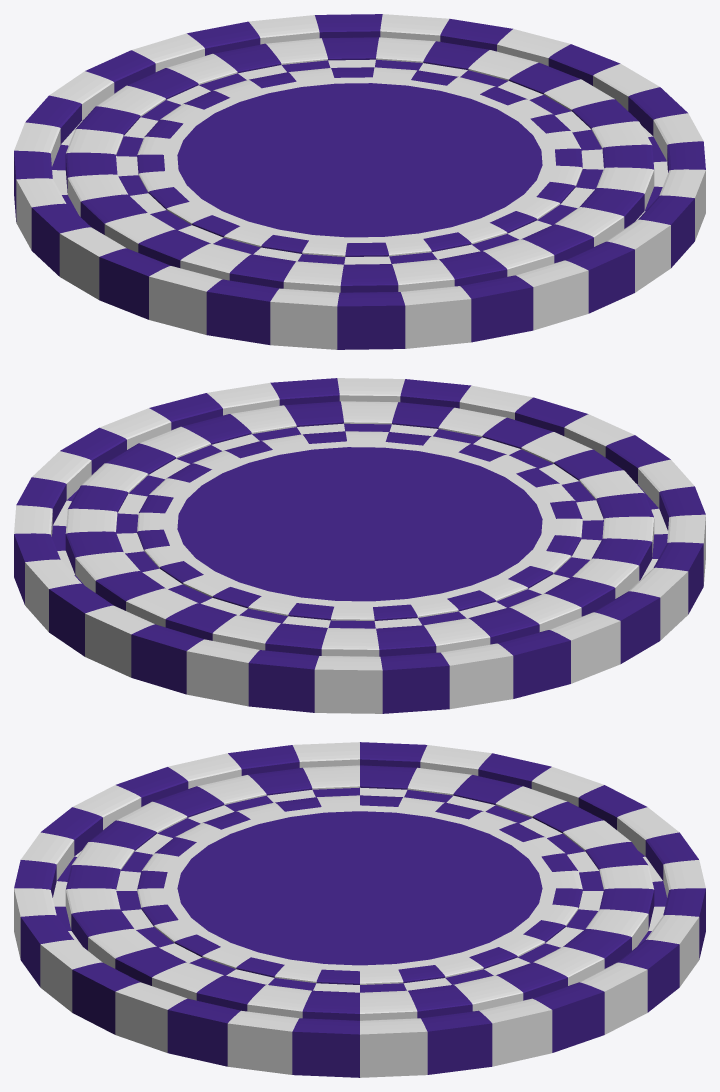
File: letitride.glb
The picture shows the model from 3 angles, top to bottom: view 1: azimuth 30°, elevation 25°; view 2: azimuth 150°, elevation 25°; view 3: azimuth 270°, elevation 25°; orthographic projection.
Visible parts, largest first — view 1: Cylinder; view 2: Cylinder; view 3: Cylinder.
Part boxes in pixels (x1,y1,x2,y2): Cylinder: (14, 14, 705, 349); Cylinder: (14, 378, 705, 713); Cylinder: (14, 742, 705, 1077).
Bounding box in the file's own units: 2 × 0.1382 × 2.
